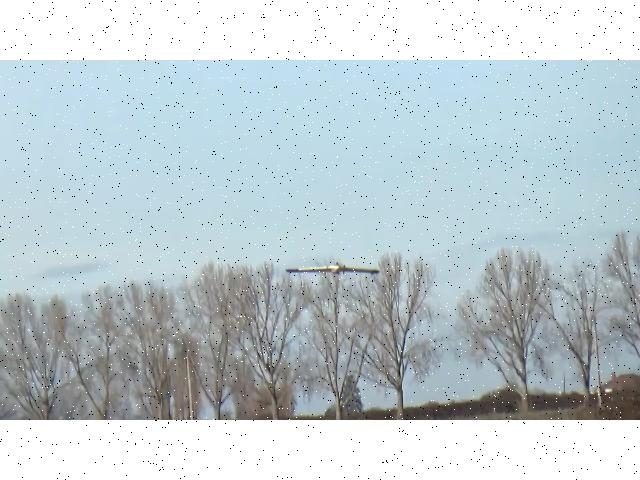Anti-Drone: (286, 263, 380, 273)
